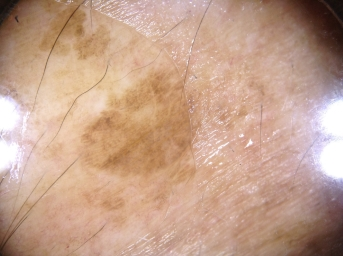seborrheic keratosis: (63, 53, 210, 188)
